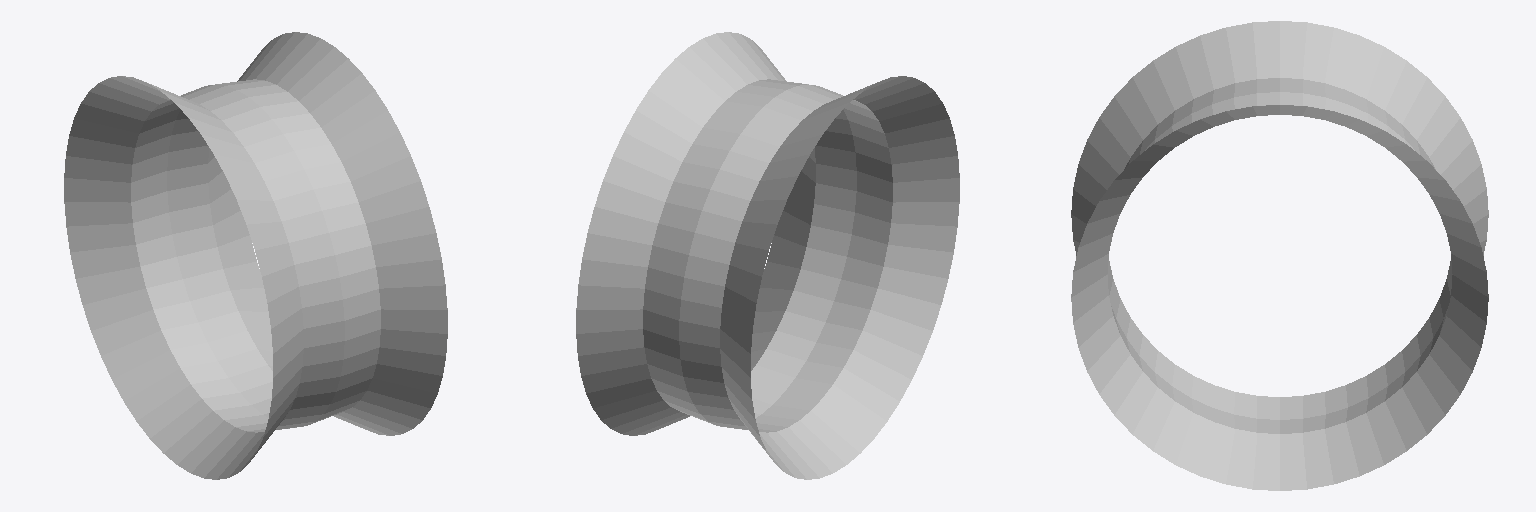
The model's file is fundo.obj.
3 renders of one model, left to right at view 1: azimuth 30°, elevation 25°; view 2: azimuth 150°, elevation 25°; view 3: azimuth 270°, elevation 25°, orthographic.
Parts seen in each view (by area): view 1: Torus; view 2: Torus; view 3: Torus.
Part boxes in pixels (bbox=[...]): Torus: bbox=[64, 32, 447, 479]; Torus: bbox=[576, 32, 959, 479]; Torus: bbox=[1071, 21, 1488, 490].
Bounding box in the file's own units: 1.72 × 3.26 × 3.25.